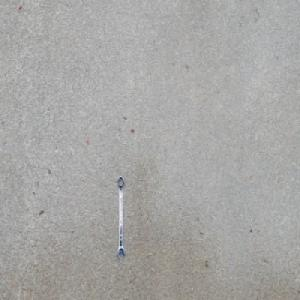Wrench: (116, 173, 125, 261)
